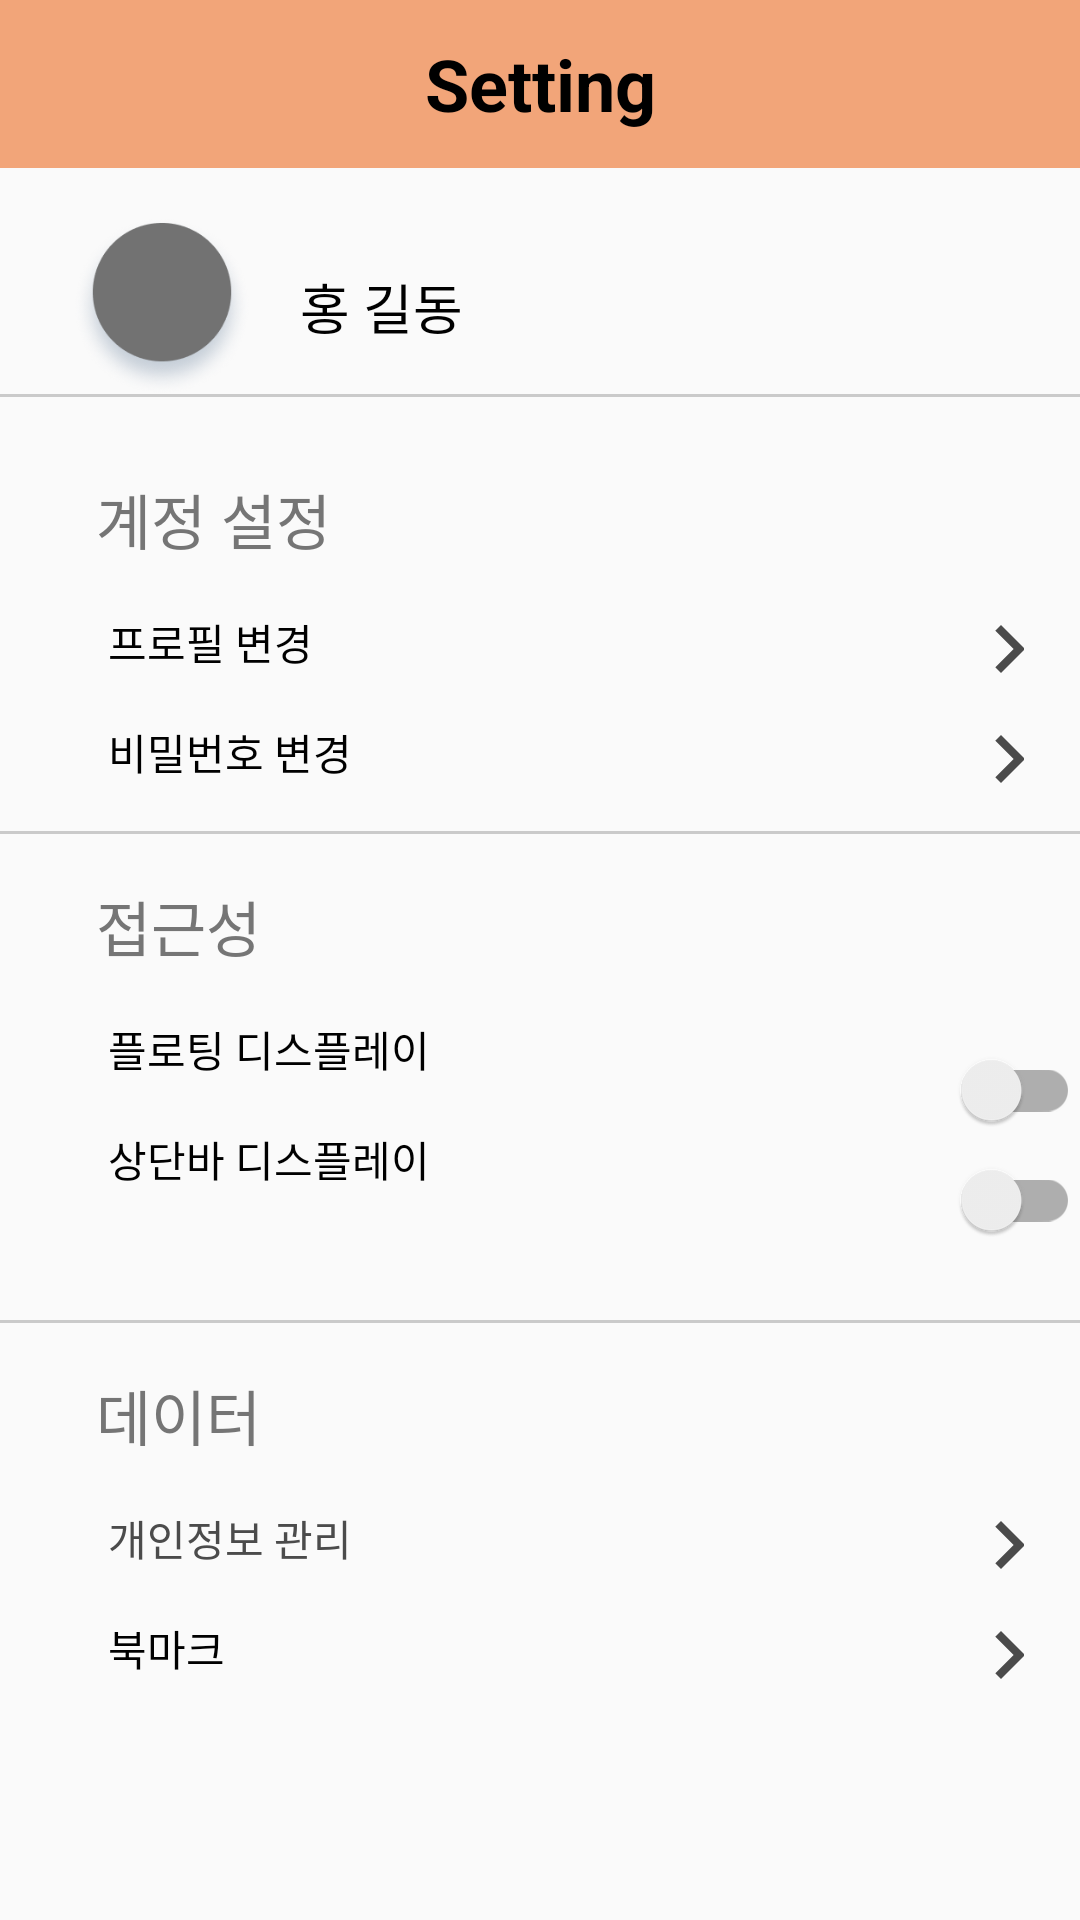

Icons on this 1080px×1920px Android screen, each with the point to tap as (x=x, y=y):
arrow: (x=1009, y=649), (x=1009, y=759), (x=1009, y=1545), (x=1009, y=1655)
